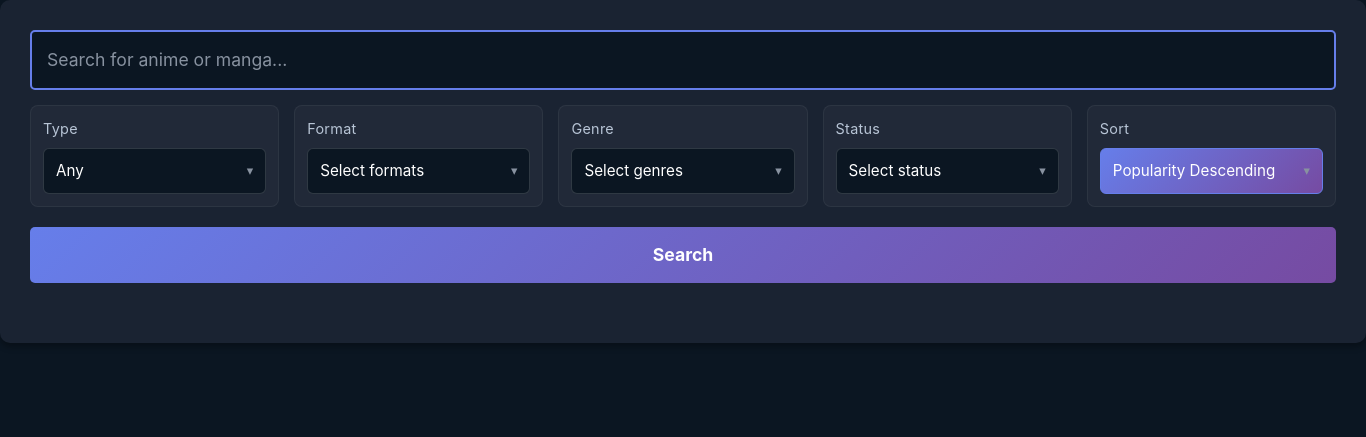
Test case: Search Component › Format Filter › displays correct count of selected formats
This screenshot has width=1366, height=437.
Click the button with test id "format-filter-button" at (419, 171), box [307, 148, 530, 194]
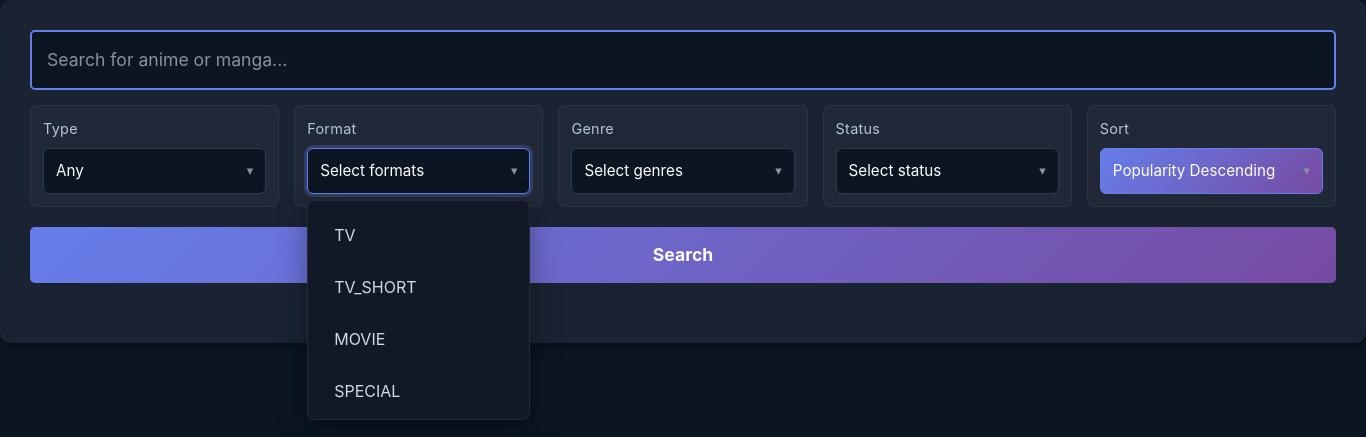
Click the button "TV" at (419, 235), box [324, 217, 513, 253]
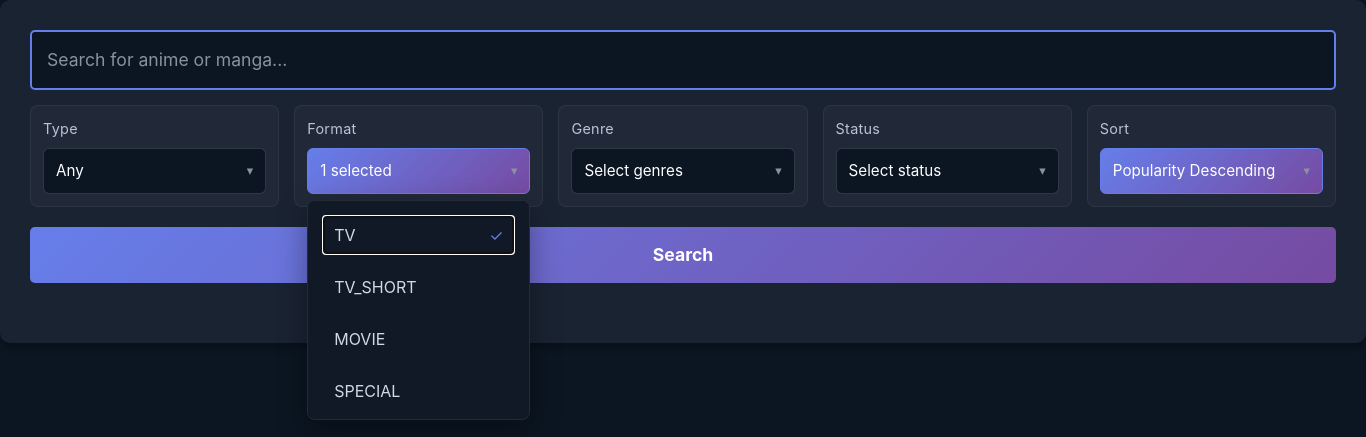
Click the button "MOVIE" at (419, 339), box [324, 321, 513, 357]
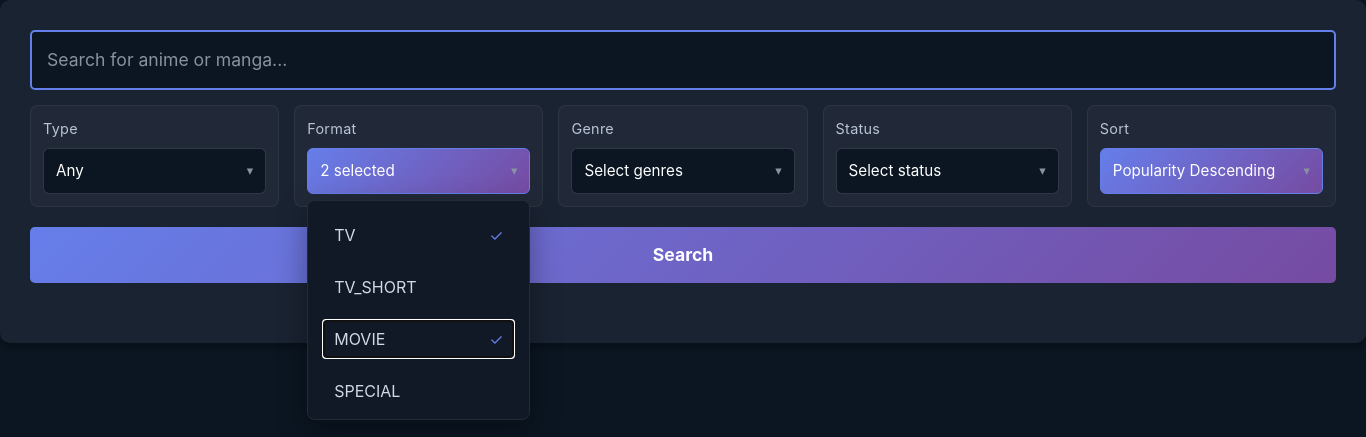
Expected: the button with test id "format-filter-button" shows "2 selected", [307, 148, 530, 194]
